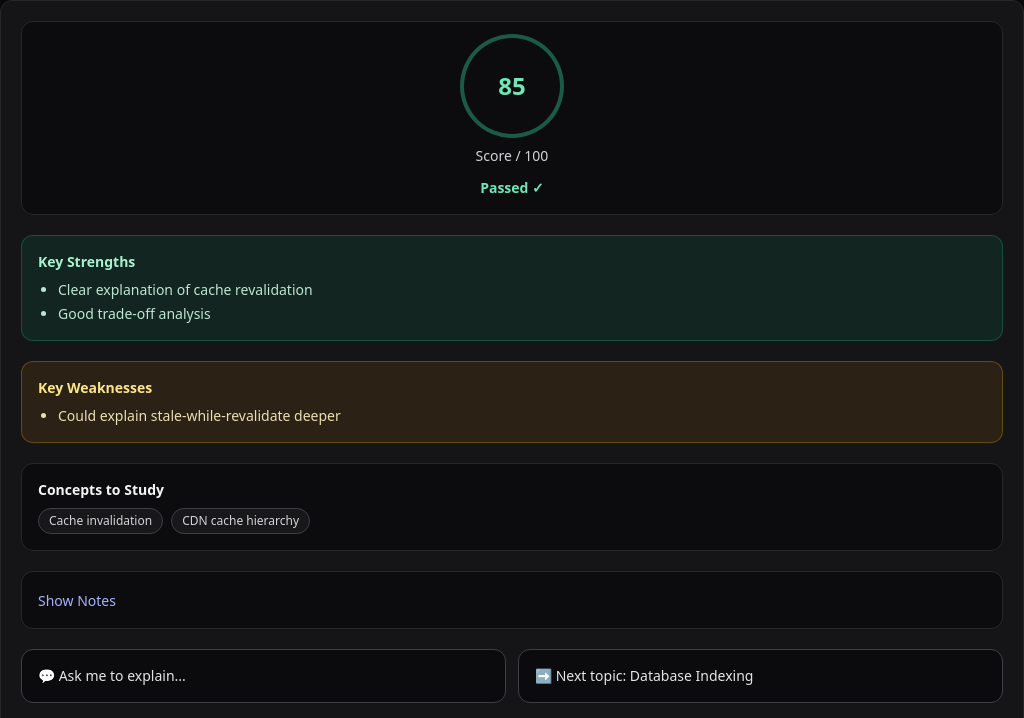
Test: EvaluationResult › toggles notes section
What coordinates should you click on to do the following:
click the button "Show Notes"
I would click on:
 (77, 601)
Its box is [38, 591, 116, 611].
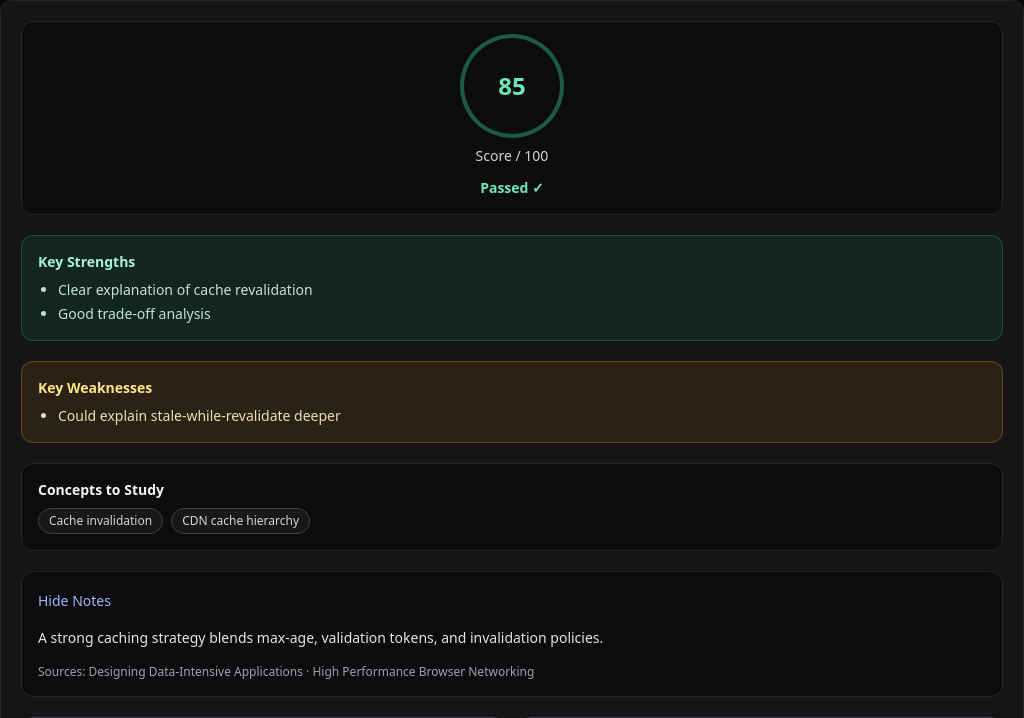
Expected: the text "A strong caching strategy blends max-age, validation tokens, and invalidation policies." is shown, [38, 628, 603, 647]
Expected: the text "Sources:" is shown, [38, 663, 89, 680]
